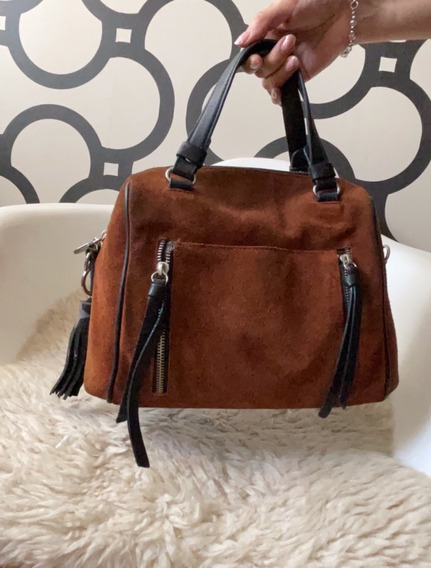cartera: (55, 37, 401, 413)
